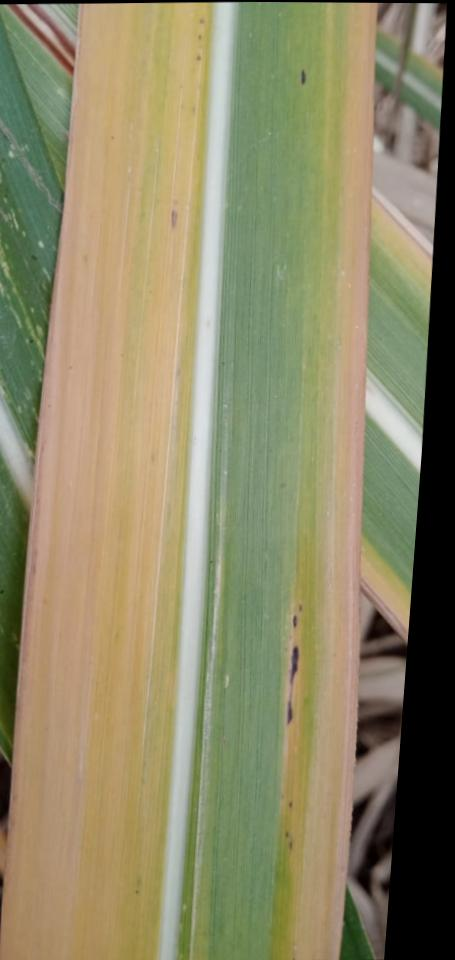RedRot: (5, 3, 76, 78)
Rust: (286, 644, 300, 725), (168, 204, 180, 230), (299, 65, 307, 86), (195, 53, 203, 63), (292, 613, 297, 629), (287, 799, 294, 809), (284, 829, 290, 839), (298, 602, 303, 613), (197, 18, 206, 24), (288, 840, 293, 850), (196, 33, 201, 41)
Yellow: (0, 2, 205, 960), (279, 3, 377, 959), (371, 184, 432, 280), (360, 553, 410, 646)
